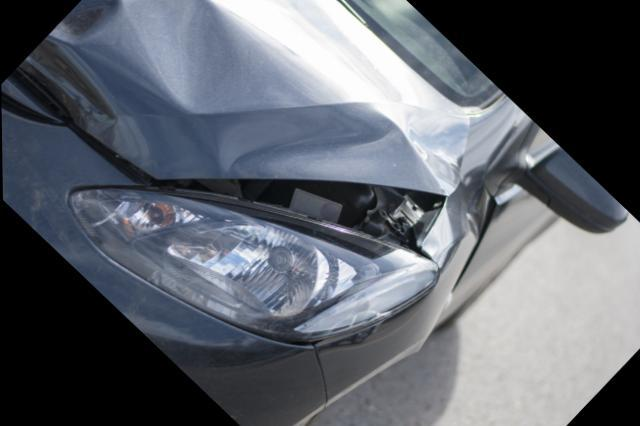dent: (18, 0, 460, 196)
dislocated part: (11, 0, 466, 247)
